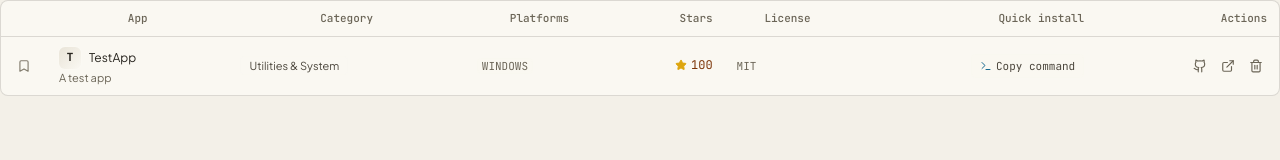
Test: table view: deleting a custom app requires the same confirm as the cards › cancel keeps the app and returns focus to the trash button
Click the button named "Delete TestApp": x=1256, y=66 x1=1245 y1=55 x2=1267 y2=77
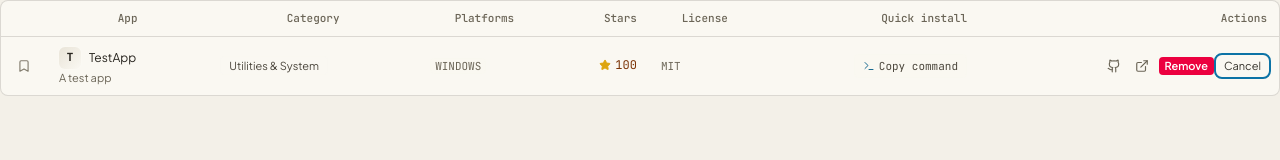
Click the button "Cancel": x=1242, y=66 x1=1218 y1=57 x2=1267 y2=75
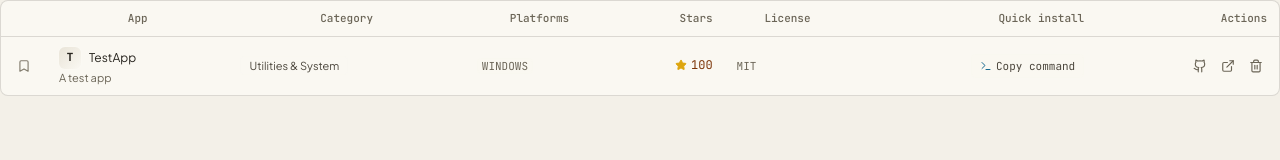
Expected: the button named "Delete TestApp" is shown, x1=1245 y1=55 x2=1267 y2=77
